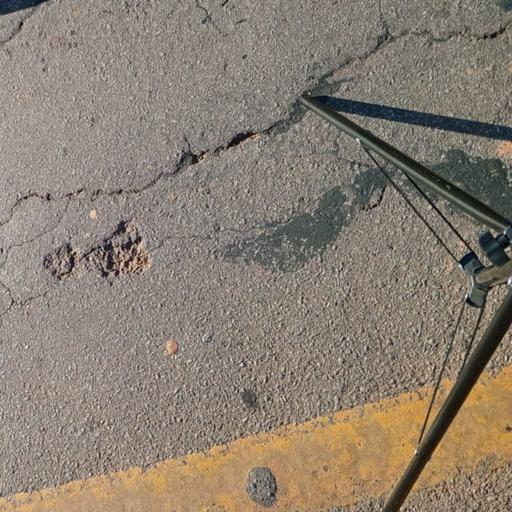BACHE: (88, 220, 148, 274)
GRIETA: (215, 21, 511, 156), (0, 147, 210, 227), (0, 201, 70, 270), (0, 292, 47, 316)
